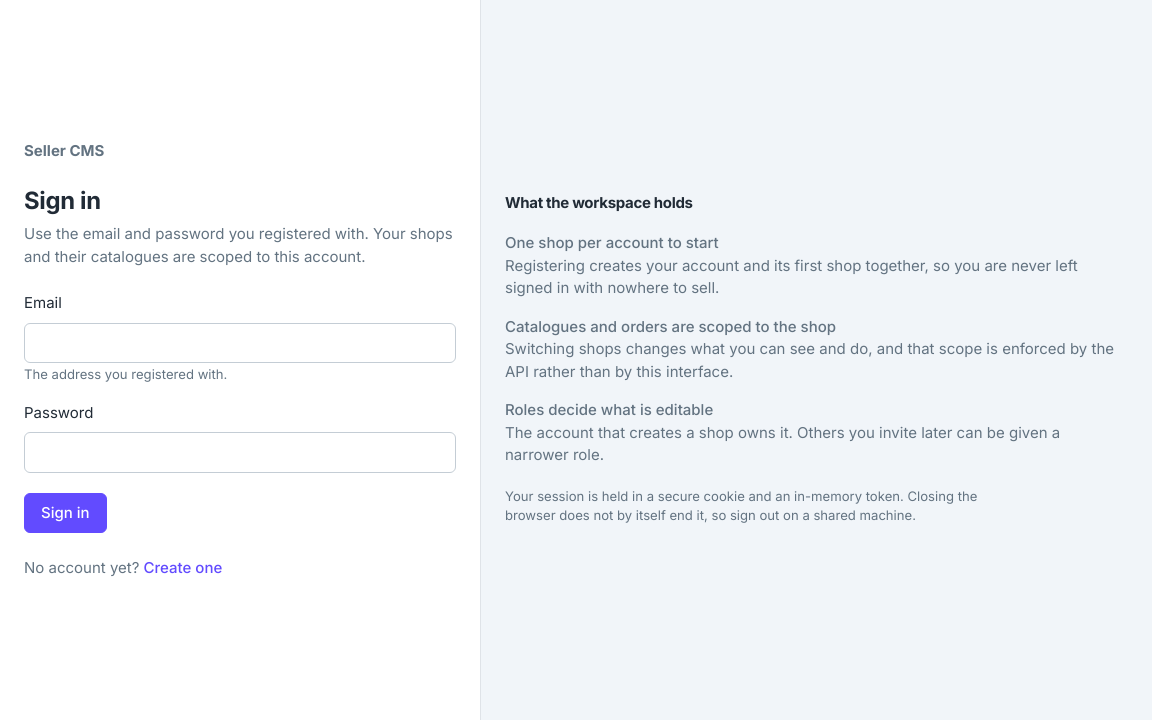
Test: login form › reports a required field before any request is made
Click the button "Sign in" at coordinates (65, 513), box [24,493,107,533]
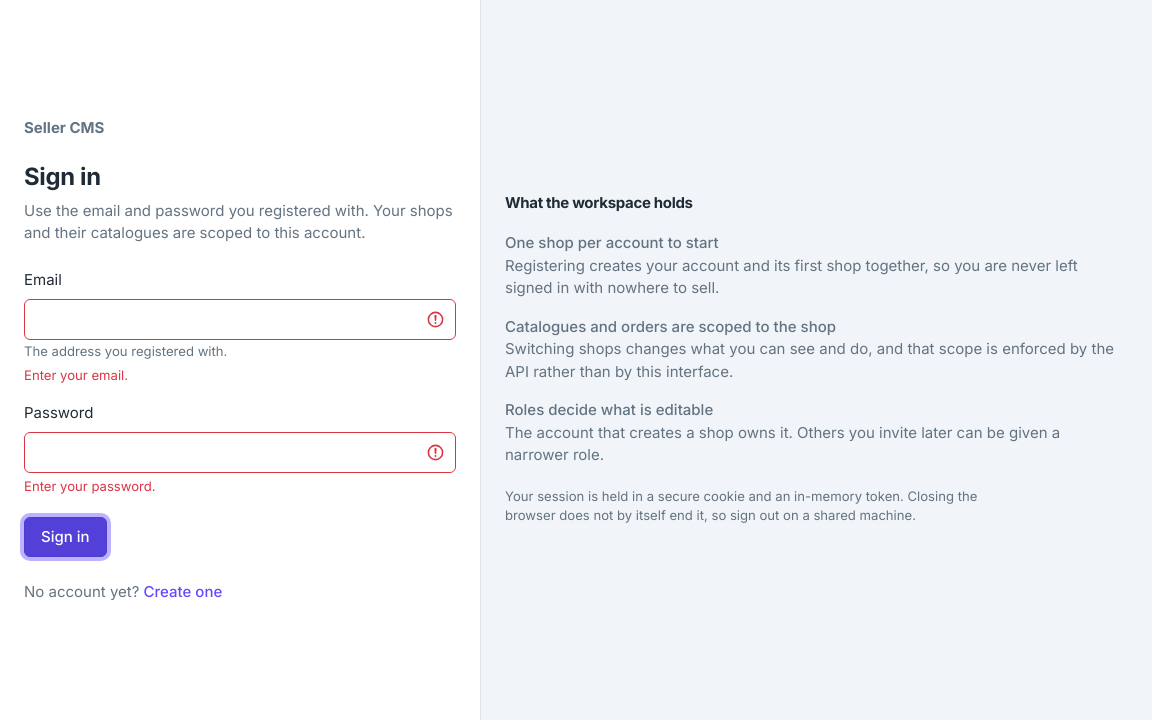
expect the text "Enter your email." is shown: met, box [24,367,128,383]
